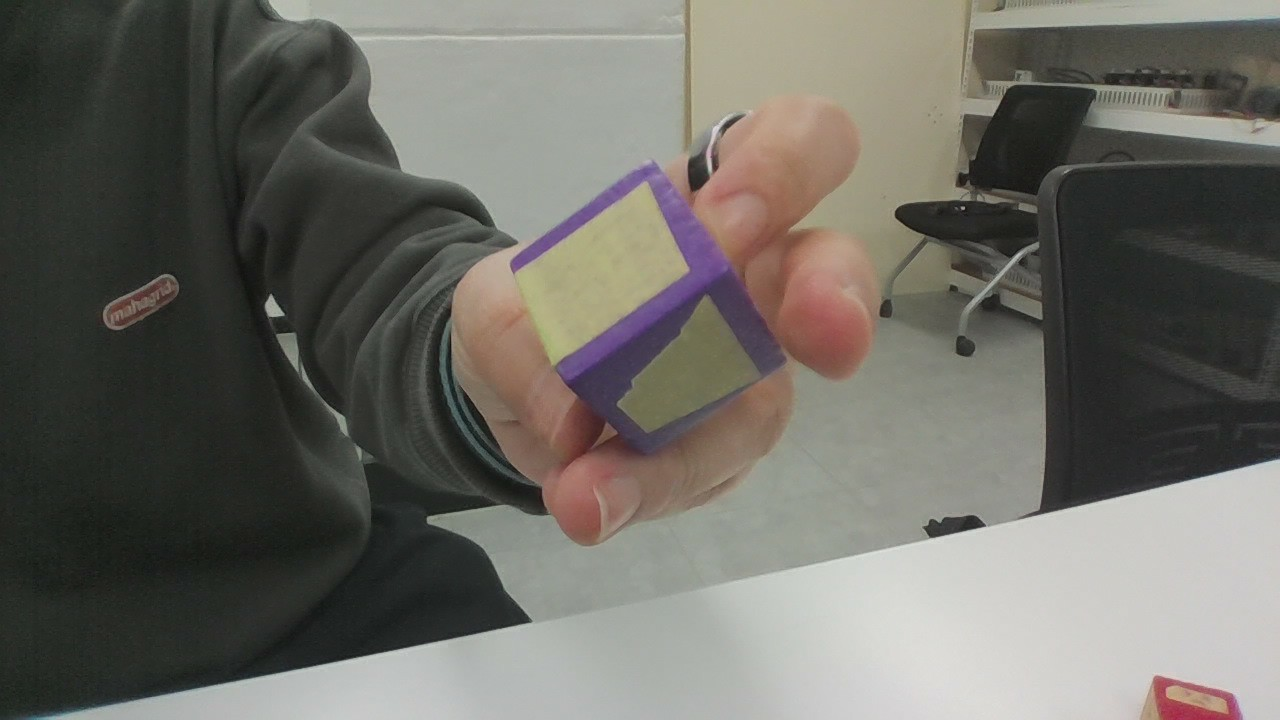Error: (473, 267, 696, 530)
